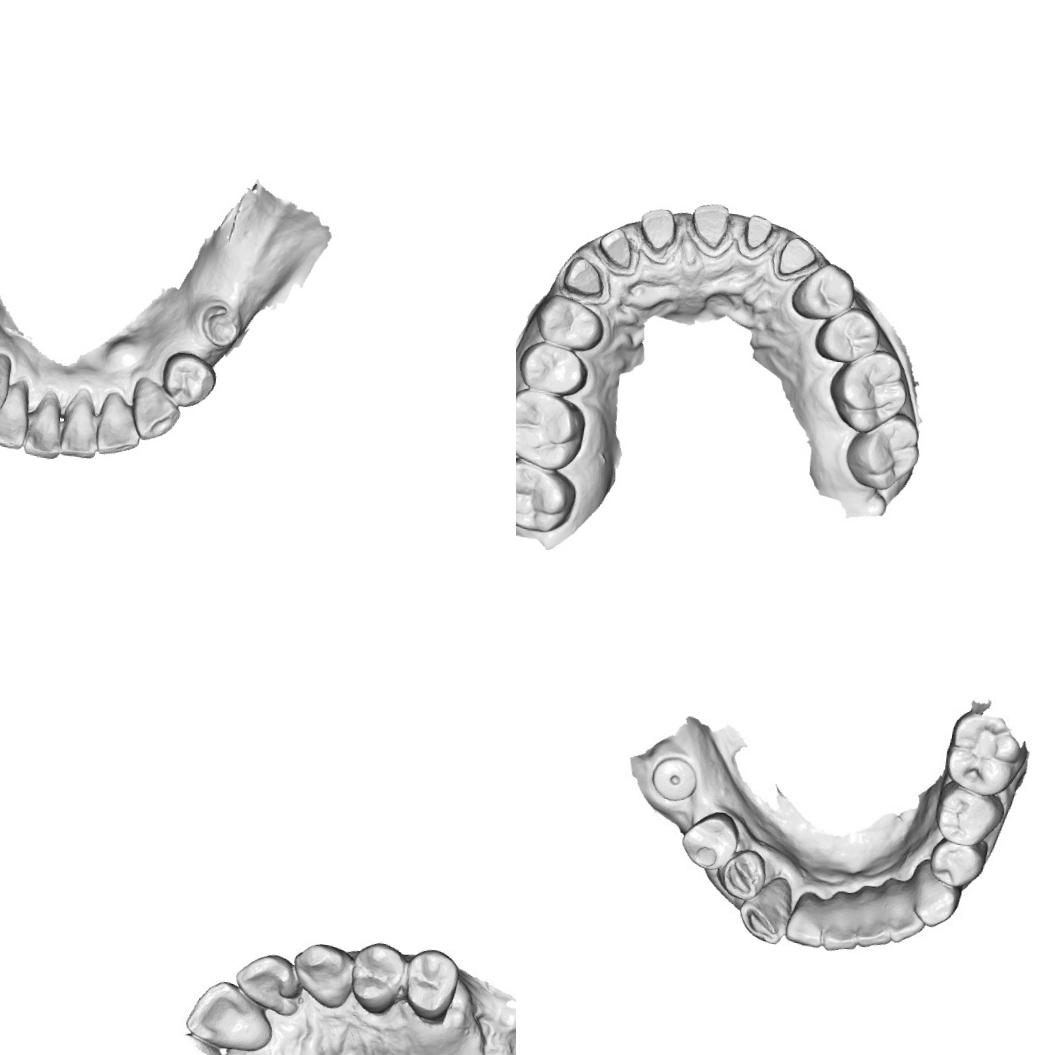canine: (290, 939, 361, 1010), (737, 870, 796, 948), (126, 374, 185, 444), (912, 860, 966, 932), (0, 348, 15, 419)
crown: (555, 248, 617, 308), (632, 202, 688, 266), (682, 198, 738, 260), (588, 222, 646, 278), (767, 231, 822, 285), (733, 210, 782, 264)
implant: (648, 750, 704, 806)
incisor: (181, 976, 277, 1055), (232, 948, 307, 1015), (93, 392, 145, 460), (882, 880, 928, 948), (21, 393, 66, 462), (58, 394, 104, 461), (786, 886, 828, 950), (0, 375, 35, 451), (820, 890, 860, 954), (854, 887, 893, 951)
molar: (824, 345, 914, 438), (940, 708, 1028, 801), (840, 406, 925, 496), (516, 384, 590, 474), (516, 452, 582, 537)
premolar: (344, 936, 410, 1018), (398, 944, 461, 1026), (809, 303, 885, 369), (530, 291, 608, 354), (677, 805, 744, 876), (788, 259, 859, 324), (516, 339, 592, 399), (936, 784, 1004, 849), (158, 348, 220, 412), (930, 836, 985, 893), (716, 848, 772, 902)
